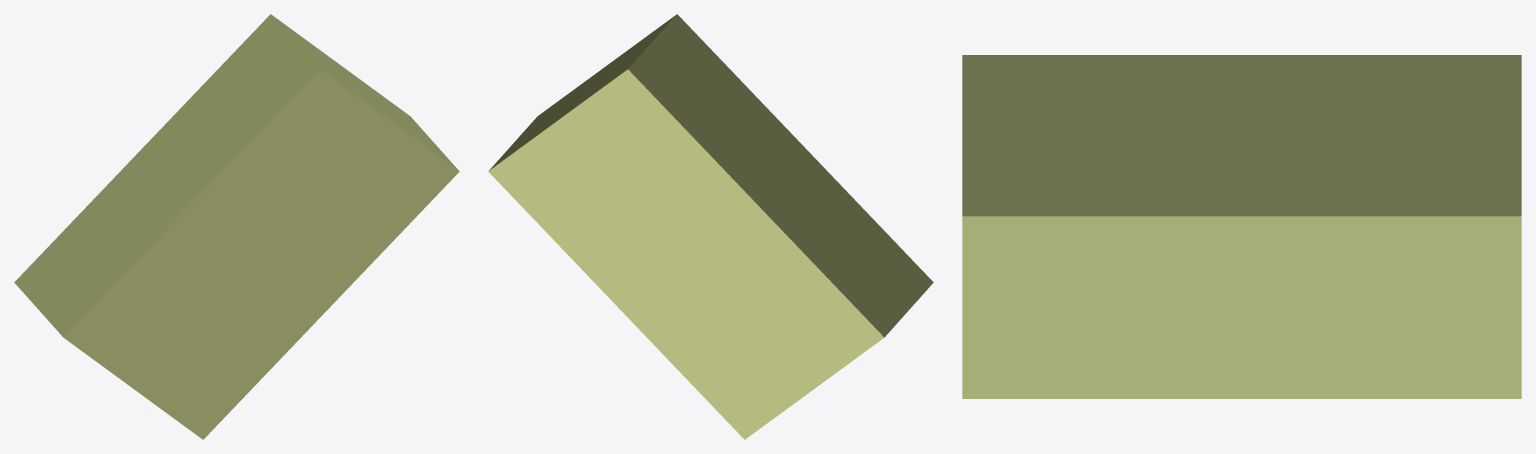
3 renders of one model, left to right at view 1: azimuth 30°, elevation 25°; view 2: azimuth 150°, elevation 25°; view 3: azimuth 270°, elevation 25°, orthographic. The views are drawn at different scales.
Parts seen in each view (by area): view 1: 0_2_0_1_1_1_1_1_0_0_1; view 2: 0_2_0_1_1_1_1_1_0_0_1; view 3: 0_2_0_1_1_1_1_1_0_0_1.
Part boxes in pixels (<box>): 0_2_0_1_1_1_1_1_0_0_1: <box>14,14,459,439</box>; 0_2_0_1_1_1_1_1_0_0_1: <box>488,14,933,439</box>; 0_2_0_1_1_1_1_1_0_0_1: <box>962,55,1521,398</box>.
Size of the model in its own units: 11.37 by 9.7 by 9.
